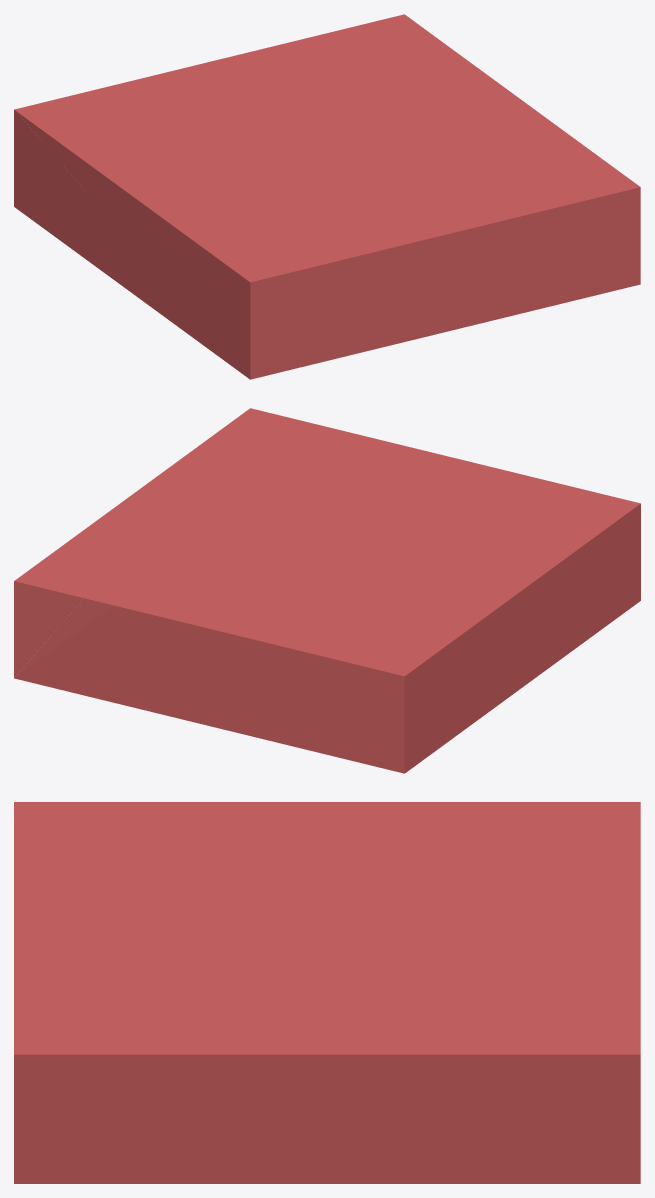
File: bk_lift01.glb
The picture shows the model from 3 angles, top to bottom: view 1: azimuth 30°, elevation 25°; view 2: azimuth 150°, elevation 25°; view 3: azimuth 270°, elevation 25°; orthographic projection. The views are drawn at different scales.
Visible parts, largest first — view 1: bk_lift01_col; view 2: bk_lift01_col; view 3: bk_lift01_col.
Boxes of the visible parts, x1,y1,x2,y2 form: bk_lift01_col: (14, 14, 640, 379); bk_lift01_col: (14, 408, 640, 773); bk_lift01_col: (14, 802, 640, 1183).
Bounding box in the file's own units: 4.2 × 1 × 4.4.
